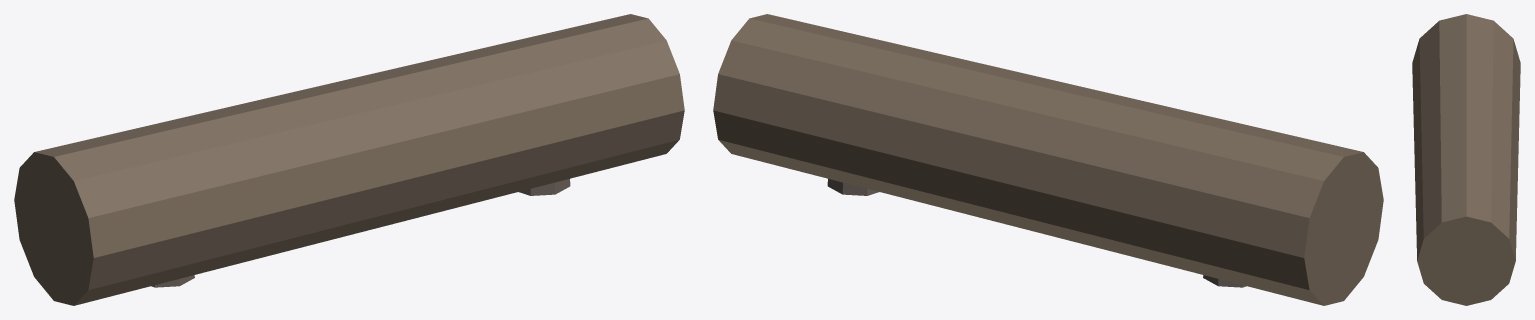
File: LogBench.fbx
3 views of the same model, side by side, from view 1: azimuth 30°, elevation 25°; view 2: azimuth 150°, elevation 25°; view 3: azimuth 270°, elevation 25° (orthographic). The views are drawn at different scales.
Parts seen in each view (by area): view 1: LogBench; view 2: LogBench; view 3: LogBench.
Part boxes in pixels (bbox=[...]): LogBench: bbox=[14, 14, 684, 305]; LogBench: bbox=[713, 14, 1383, 305]; LogBench: bbox=[1412, 14, 1520, 305].
Size of the model in its own units: 190 by 44 by 44.
